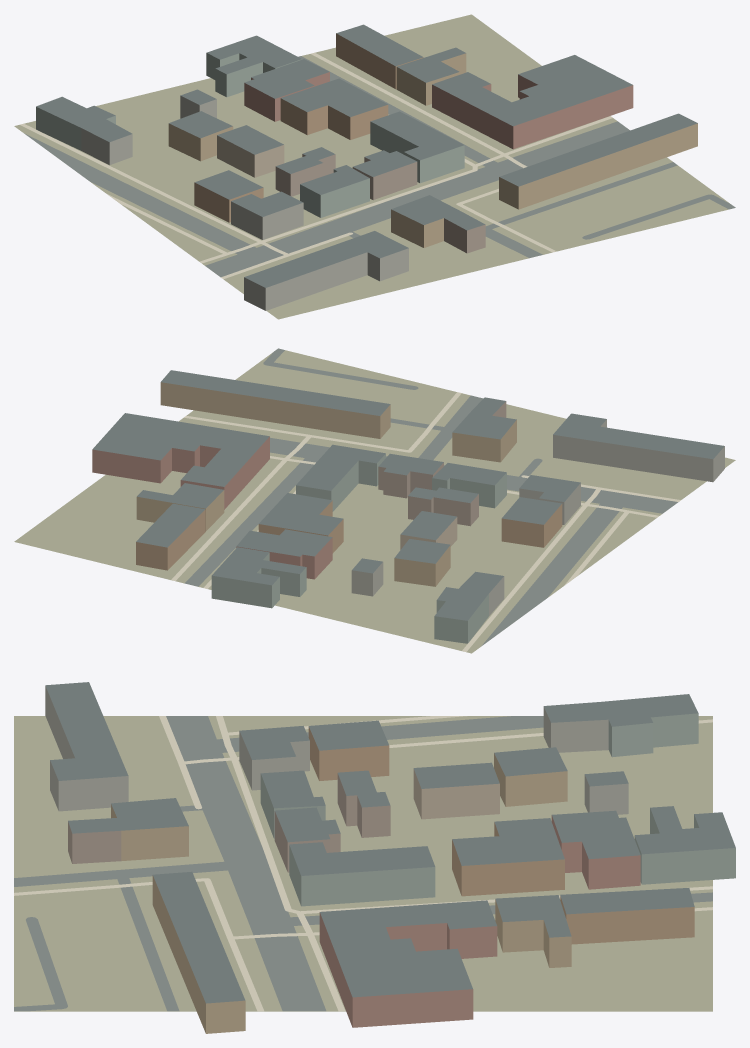
File: sector-2_-2.glb
3 renders of one model, top to bottom at view 1: azimuth 30°, elevation 25°; view 2: azimuth 150°, elevation 25°; view 3: azimuth 270°, elevation 25°, orthographic. The views are drawn at different scales.
Parts seen in each view (by area): view 1: 2:-2-ground, 2:-2-facade, 2:-2-roof, 2:-2-road, 2:-2-paving; view 2: 2:-2-ground, 2:-2-facade, 2:-2-roof, 2:-2-road, 2:-2-paving; view 3: 2:-2-ground, 2:-2-roof, 2:-2-facade, 2:-2-road, 2:-2-paving.
Part boxes in pixels (<box>): 2:-2-ground: <box>14,14,729,319</box>; 2:-2-facade: <box>36,33,697,310</box>; 2:-2-roof: <box>36,24,697,287</box>; 2:-2-road: <box>24,56,735,277</box>; 2:-2-paving: <box>20,52,612,279</box>; 2:-2-ground: <box>14,350,735,653</box>; 2:-2-facade: <box>92,382,724,643</box>; 2:-2-roof: <box>92,370,724,620</box>; 2:-2-road: <box>184,348,678,646</box>; 2:-2-paving: <box>171,392,680,651</box>; 2:-2-ground: <box>14,716,712,1011</box>; 2:-2-roof: <box>45,682,735,1003</box>; 2:-2-facade: <box>45,686,735,1033</box>; 2:-2-road: <box>14,716,712,1011</box>; 2:-2-paving: <box>14,716,712,1011</box>.
Size of the model in its own units: 218 by 9.6 by 207.
